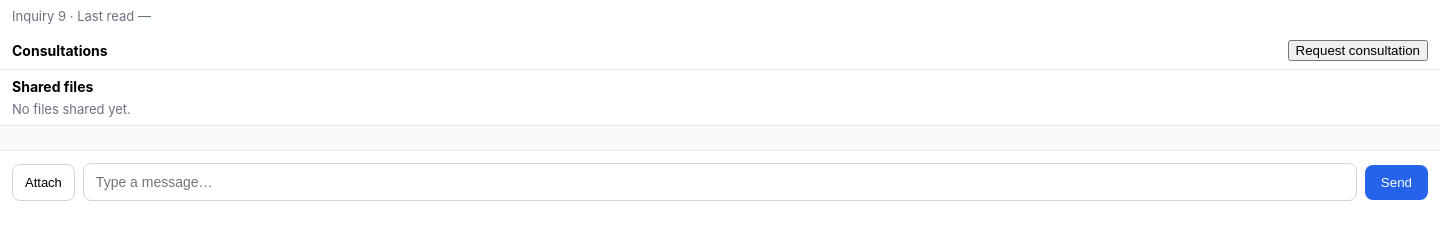
Scenario: failed send shows an error when websocket and HTTP both fail
This screenshot has width=1440, height=250.
Type "Hello there" into the field with placeholder "Type a message…" at [720, 182], box [83,163,1357,201]
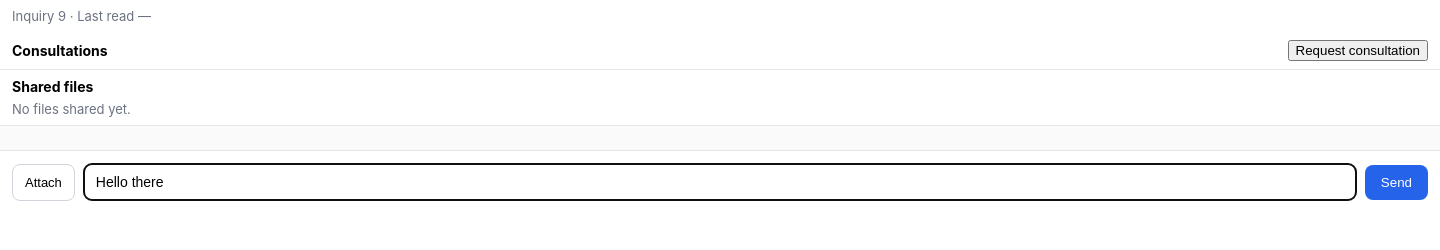
Click the button "Send" at [1396, 182], box [1365,164,1428,200]
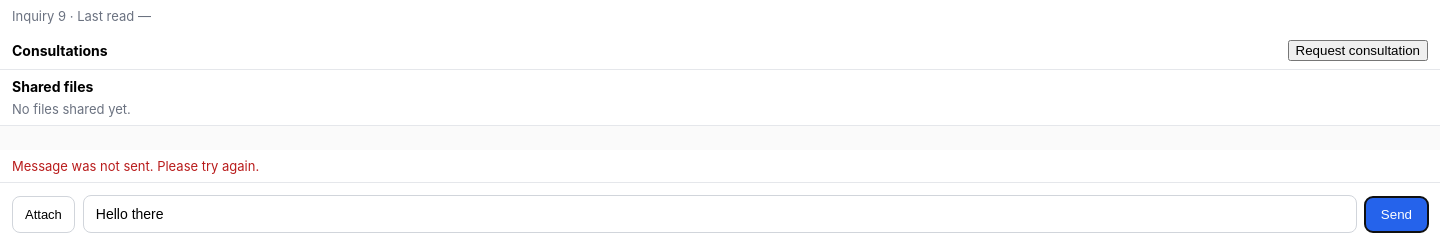
Expected: the text "Message was not sent. Please try again." is shown, [12,158,259,174]
